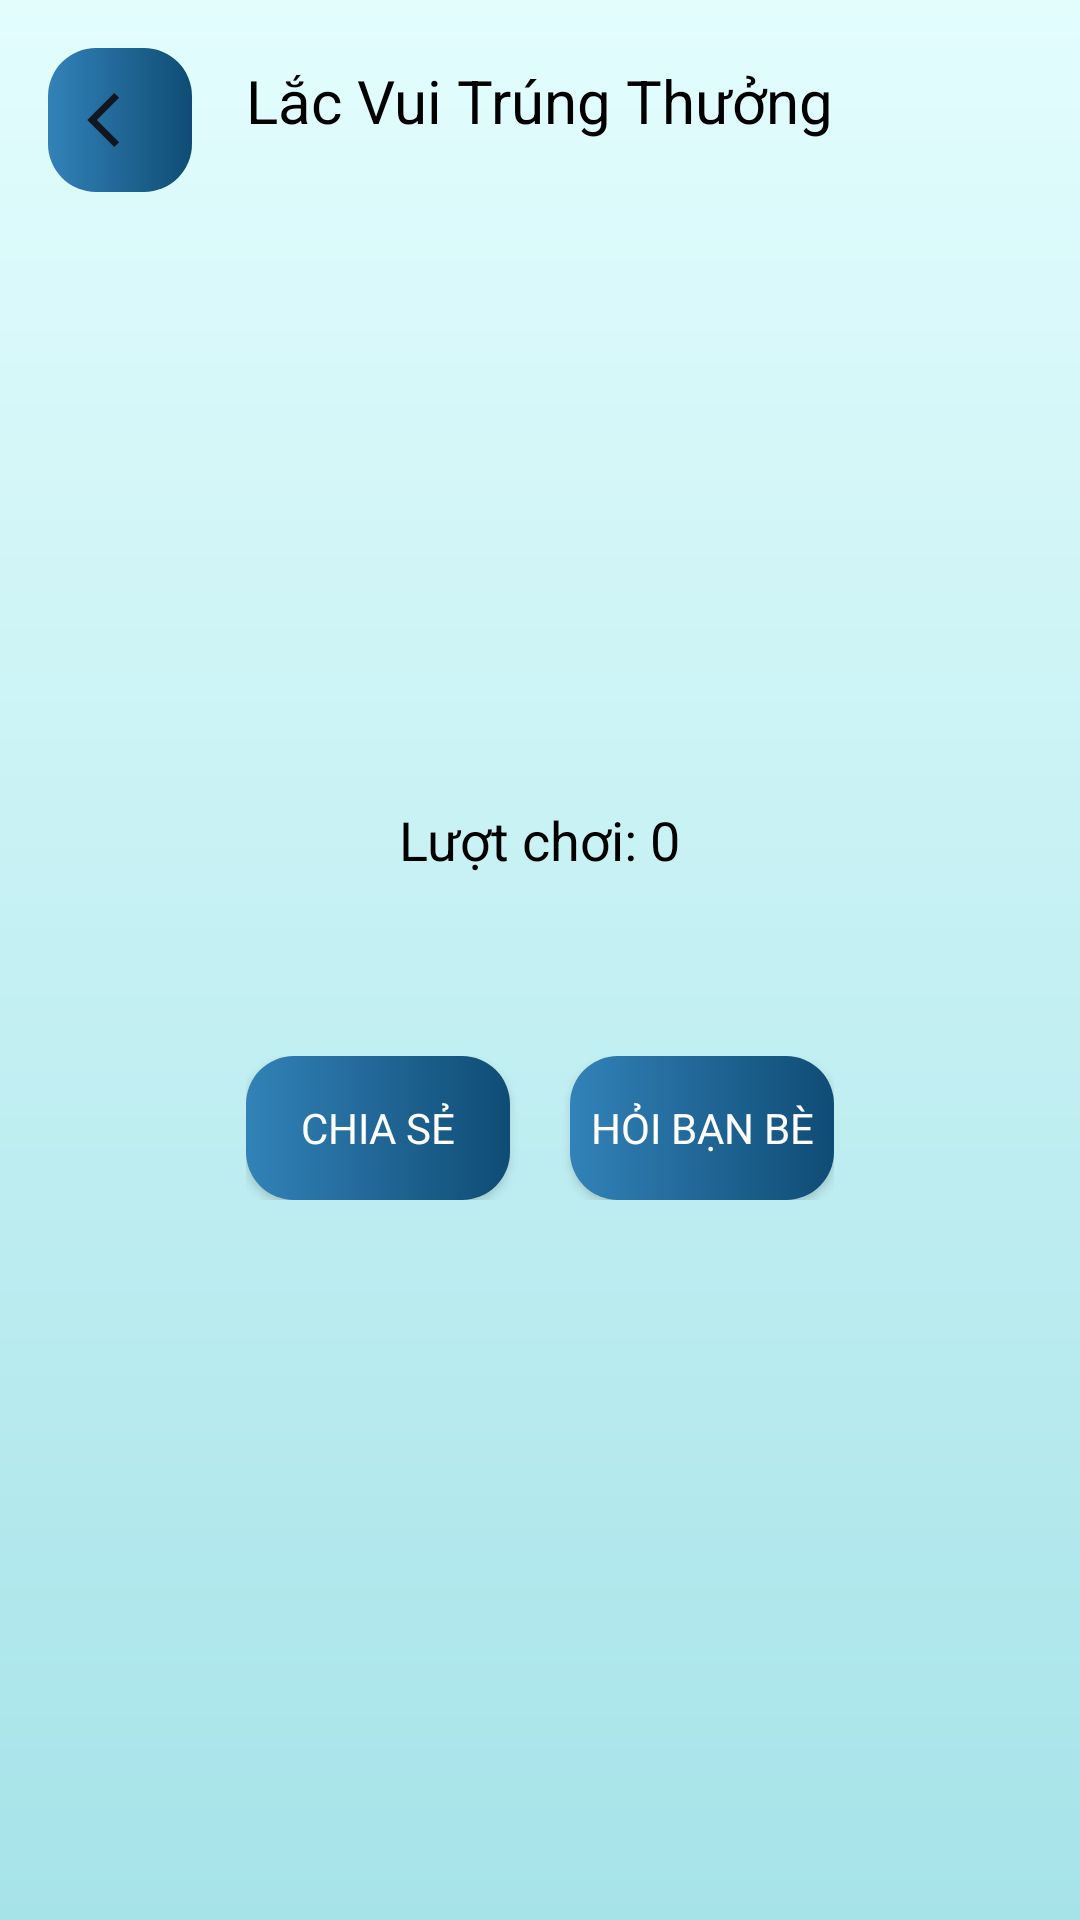

Screen size 1080px x 1920px. Icon name, then its center in pixels as (x=x, y=y):
Back: (x=120, y=120)
